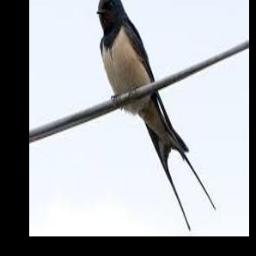Swallow: (96, 0, 216, 230)
